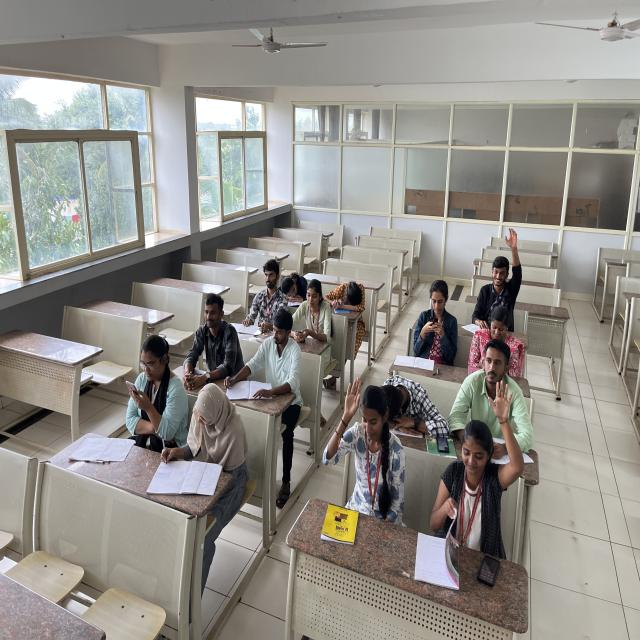Hand Rising: (439, 380, 527, 530), (321, 369, 404, 521), (469, 222, 527, 308)
Reading: (222, 302, 303, 410), (279, 266, 307, 300)
Sleeping: (373, 368, 450, 439), (326, 275, 371, 316)
Using Phone: (118, 326, 182, 440), (402, 274, 461, 358), (295, 274, 331, 342)
Writing: (155, 380, 246, 520)
